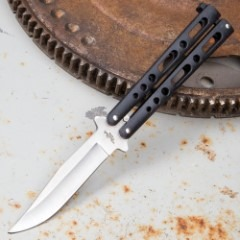knife: (6, 2, 234, 233)
